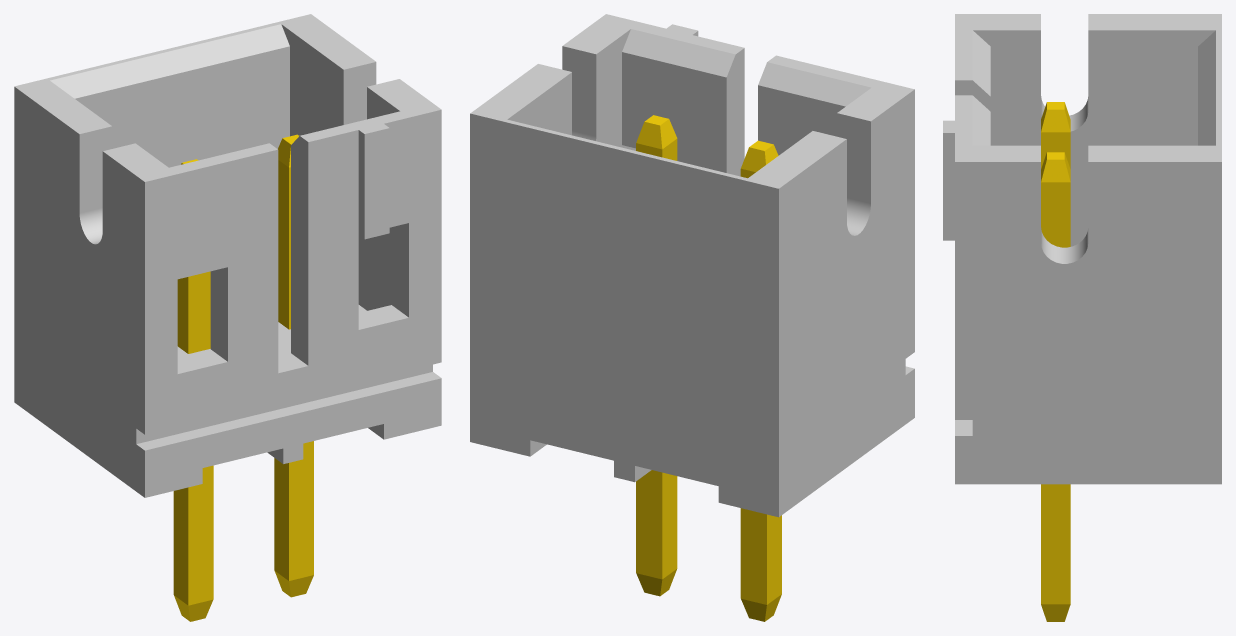
3 views of the same model, side by side, from view 1: azimuth 30°, elevation 25°; view 2: azimuth 150°, elevation 25°; view 3: azimuth 270°, elevation 25° (orthographic). The views are drawn at different scales.
Visible parts, largest first — view 1: BxB-PH-K-S; view 2: BxB-PH-K-S; view 3: BxB-PH-K-S.
Boxes of the visible parts, x1,y1,x2,y2 form: BxB-PH-K-S: [14, 14, 441, 621]; BxB-PH-K-S: [470, 14, 914, 621]; BxB-PH-K-S: [943, 14, 1221, 621].
Bounding box in the file's own units: 0.0059 × 0.0094 × 0.0047.
